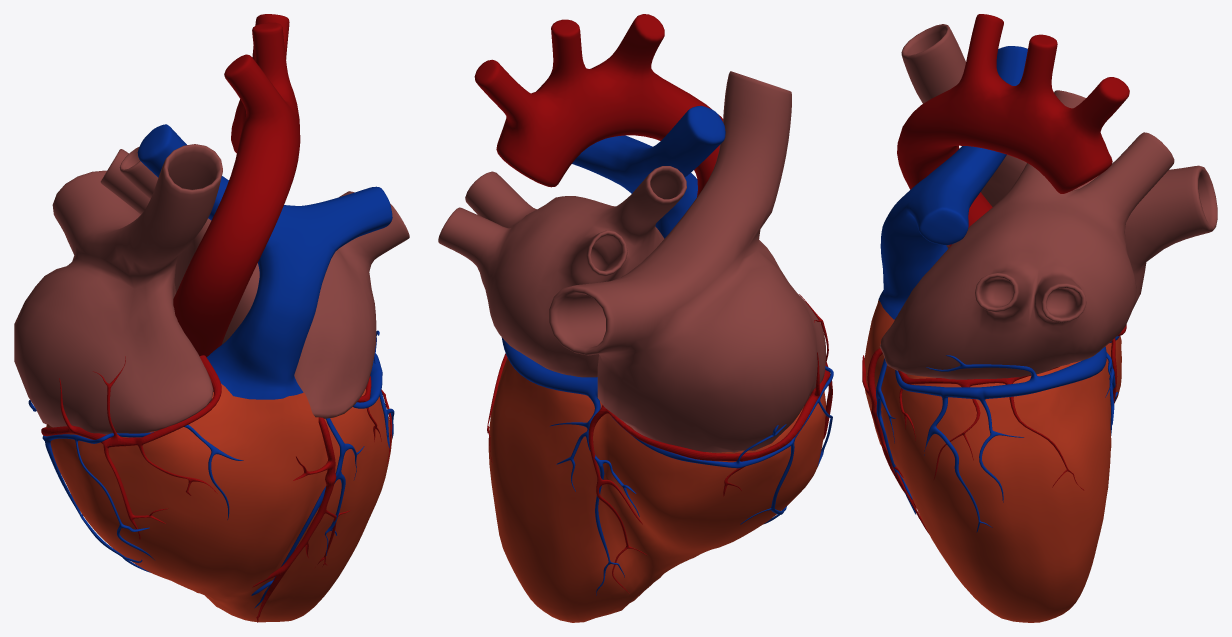
Rendered from Human_heart_Animation_noArmature_01.fbx.
3 renders of one model, left to right at view 1: azimuth 30°, elevation 25°; view 2: azimuth 150°, elevation 25°; view 3: azimuth 270°, elevation 25°, orthographic. The views are drawn at different scales.
Parts seen in each view (by area): view 1: Ventriculos, Auricula-izq, Aorta, Auricula-der, Arteritas, Venitas; view 2: Auricula-izq, Ventriculos, Auricula-der, Aorta, Venitas, Arteritas; view 3: Ventriculos, Auricula-der, Aorta, Auricula-izq, Venitas, Arteritas.
Boxes of the visible parts, <box> form: Ventriculos: <box>46,124,392,622</box>; Auricula-izq: <box>14,144,222,434</box>; Aorta: <box>173,14,300,357</box>; Auricula-der: <box>100,146,409,418</box>; Arteritas: <box>41,355,392,622</box>; Venitas: <box>28,330,394,608</box>; Auricula-izq: <box>549,71,825,452</box>; Ventriculos: <box>488,105,825,622</box>; Auricula-der: <box>438,166,686,377</box>; Aorta: <box>474,14,722,196</box>; Venitas: <box>501,337,833,595</box>; Arteritas: <box>487,294,832,593</box>; Ventriculos: <box>864,46,1121,622</box>; Auricula-der: <box>879,90,1174,379</box>; Aorta: <box>897,14,1129,246</box>; Auricula-izq: <box>901,24,1217,308</box>; Venitas: <box>876,336,1119,532</box>; Arteritas: <box>862,324,1126,534</box>.
Size of the model in its own units: 1033 by 1625 by 899.
